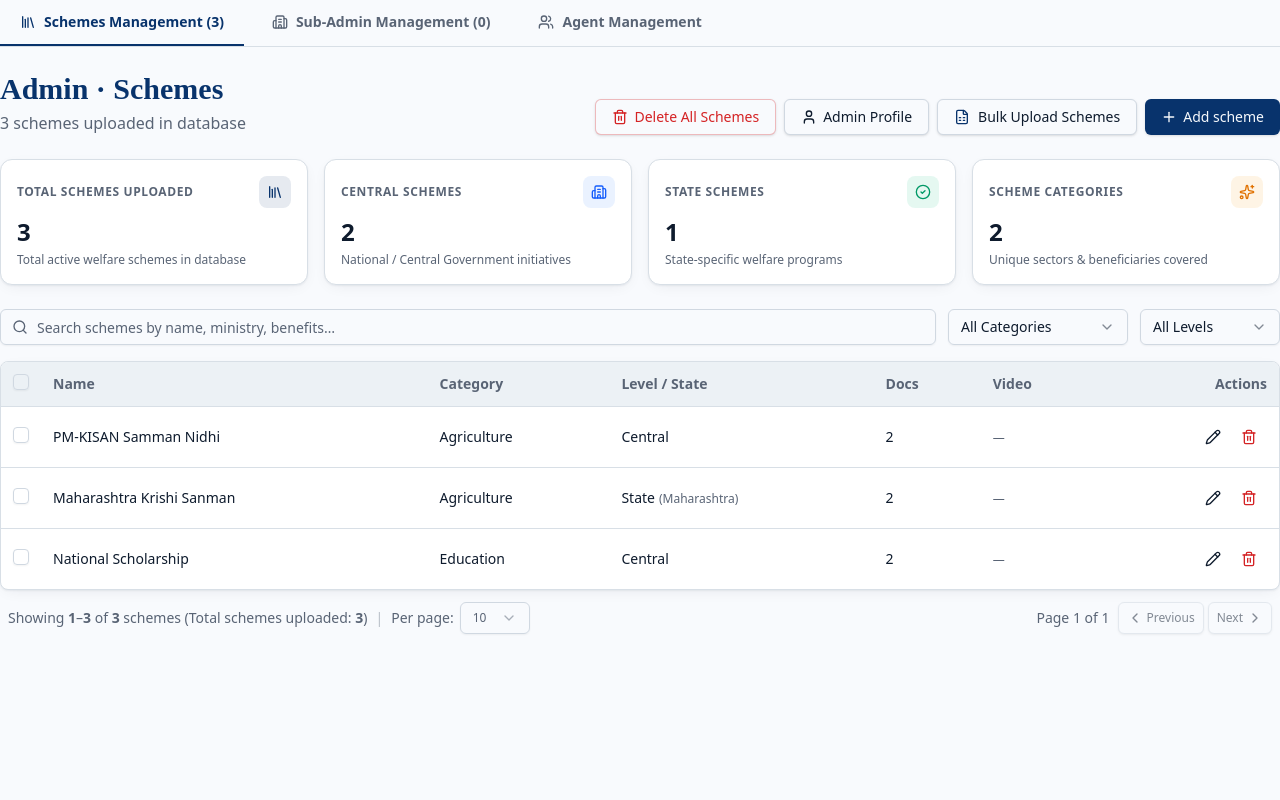
Admin Bulk Delete Schemes Functionality › provides 'Delete All Schemes' option in the bulk action bar when items are selected
Click the checkbox with test id "select-scheme-scheme-1": point(21, 435) top-left (13, 427), bottom-right (29, 443)
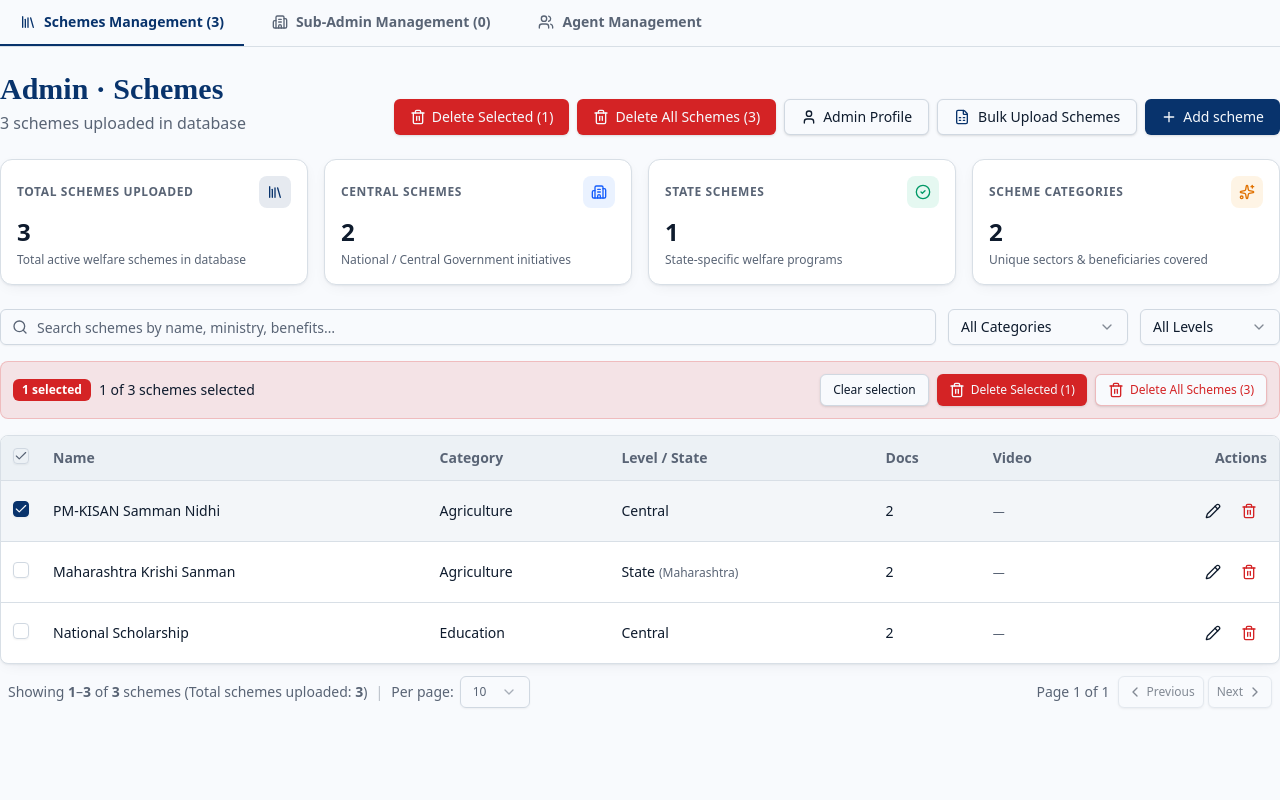
Now the button with test id "bulk-delete-all-button" is shown
Now the button with test id "bulk-delete-all-button" reads "Delete All Schemes (3)"
Click the button with test id "bulk-delete-all-button": point(1181, 390) top-left (1095, 374), bottom-right (1267, 406)
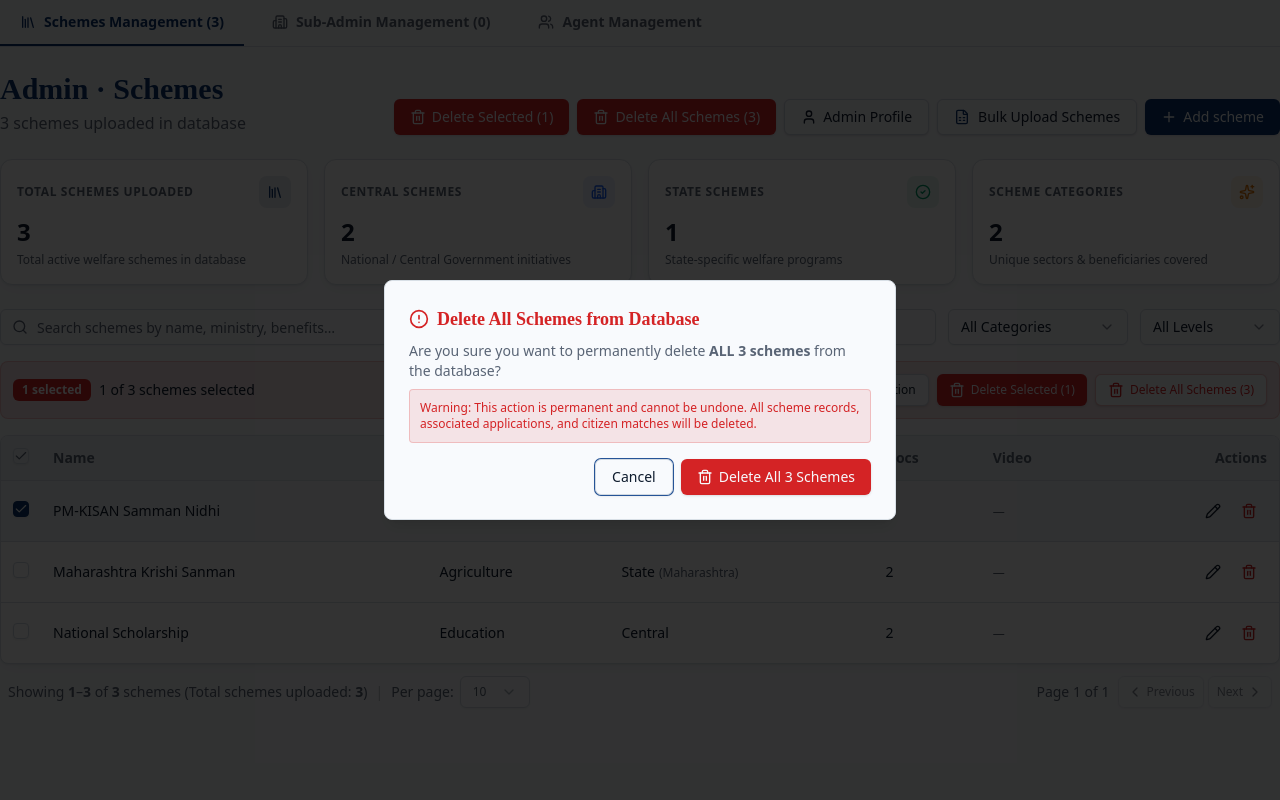
Now the dialog with test id "delete-all-dialog-content" is shown, box top-left (384, 280), bottom-right (896, 520)
Now the button with test id "confirm-delete-all-button" is shown, box top-left (681, 459), bottom-right (871, 495)
